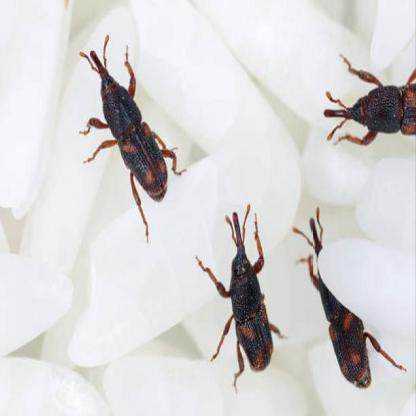rice-bug: (86, 44, 170, 211), (306, 210, 374, 390), (220, 209, 280, 374), (322, 66, 416, 147)
